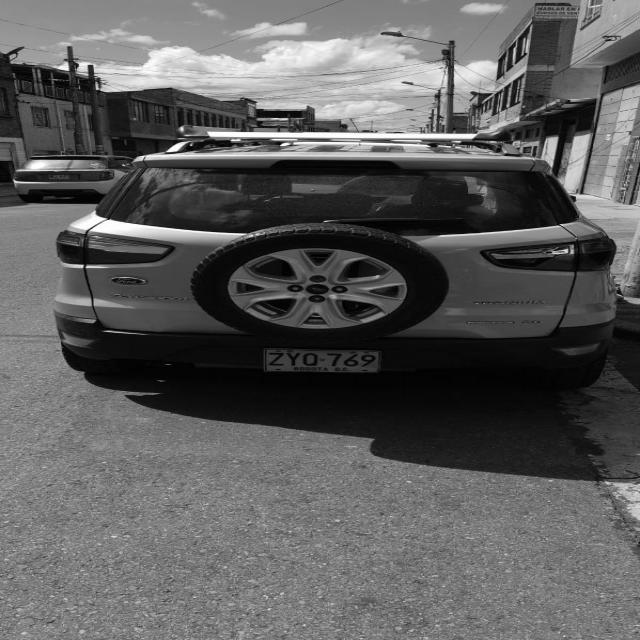plate: (253, 345, 392, 380)
